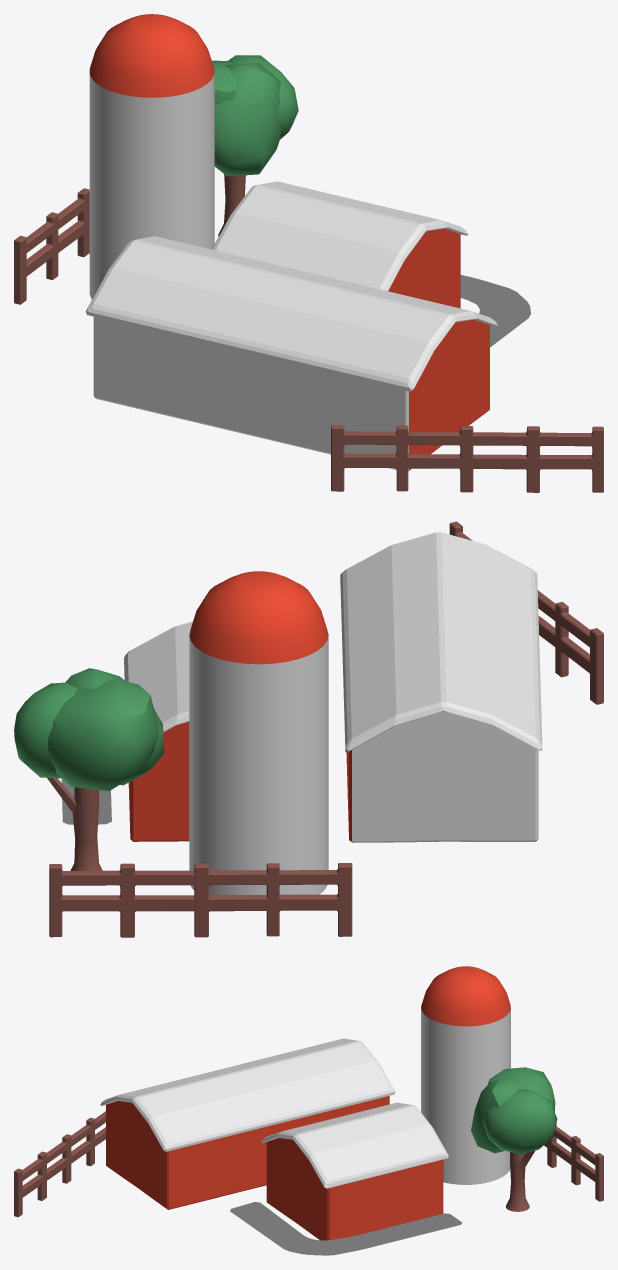
Rendered from dairyFarm.fbx.
3 renders of one model, top to bottom at view 1: azimuth 30°, elevation 25°; view 2: azimuth 150°, elevation 25°; view 3: azimuth 270°, elevation 25°, orthographic. The views are drawn at different scales.
Visible parts, largest first — view 1: Cube.078, Cylinder.136, Cube.080, Cube.081, tree, Cube.112, Plane.006; view 2: Cube.078, Cylinder.136, tree, Cube.112, Cube.080, Cube.081, Plane.006; view 3: Cube.078, Cube.080, Cylinder.136, tree, Plane.006, Cube.081, Cube.112.
Boxes of the visible parts, x1,y1,x2,y2 form: Cube.078: (85,236,497,470); Cylinder.136: (89,14,214,299); Cube.080: (212,181,468,308); Cube.081: (331,425,603,492); tree: (212,55,298,236); Cube.112: (14,188,89,304); Plane.006: (460,275,530,347); Cube.078: (340,532,542,842); Cylinder.136: (189,571,328,895); tree: (14,668,164,870); Cube.112: (49,863,352,937); Cube.080: (124,621,192,841); Cube.081: (449,521,603,704); Plane.006: (61,778,111,824); Cube.078: (100,1038,395,1209); Cube.080: (261,1102,448,1240); Cylinder.136: (421,966,510,1184); tree: (471,1067,557,1211); Plane.006: (230,1202,462,1255); Cube.081: (14,1111,105,1217); Cube.112: (544,1123,603,1201).
Bounding box in the file's own units: 0.6069 × 0.3783 × 1.01.
